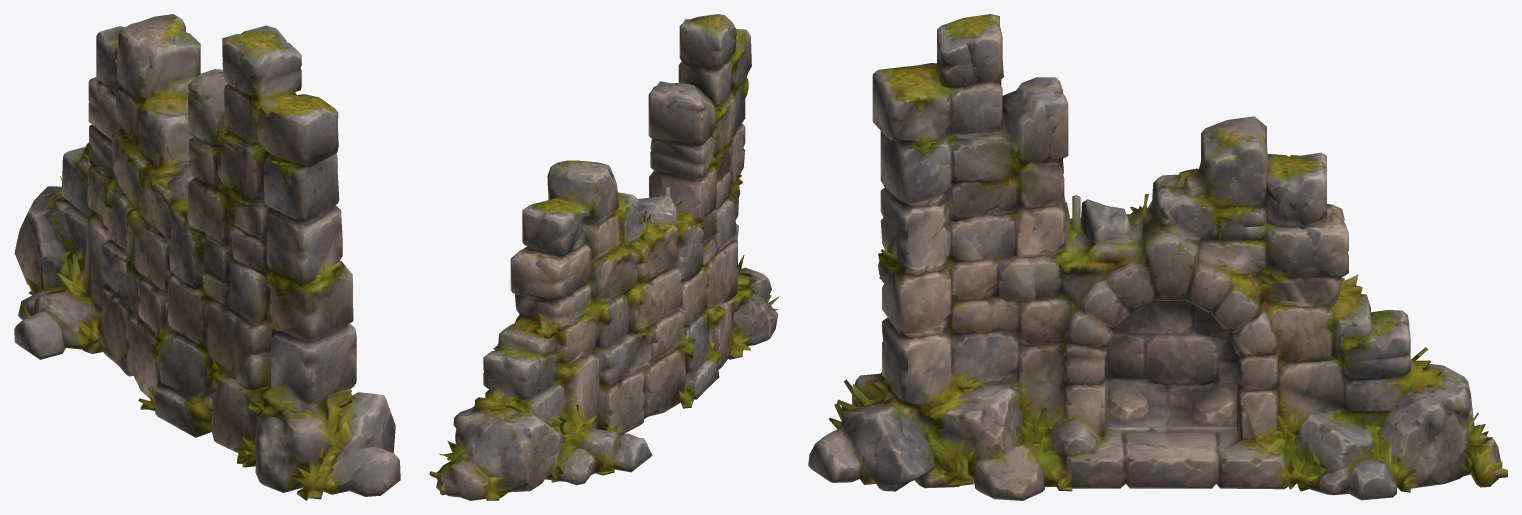
File: SM_Env_FortRuin.fbx
3 renders of one model, left to right at view 1: azimuth 30°, elevation 25°; view 2: azimuth 150°, elevation 25°; view 3: azimuth 270°, elevation 25°, orthographic. The views are drawn at different scales.
Parts seen in each view (by area): view 1: SM_Env_FortRuin; view 2: SM_Env_FortRuin; view 3: SM_Env_FortRuin.
Boxes of the visible parts, x1,y1,x2,y2 form: SM_Env_FortRuin: (14, 14, 400, 500); SM_Env_FortRuin: (429, 14, 778, 500); SM_Env_FortRuin: (808, 14, 1507, 500).
Bounding box in the file's own units: 50.99 × 164 × 110.
Materials: 1 (1 with a texture image).
